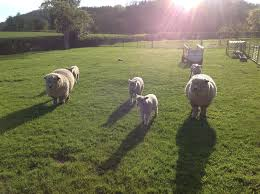sheep: (184, 75, 217, 119), (40, 68, 76, 101), (135, 92, 162, 126), (125, 75, 146, 104), (189, 62, 203, 79), (70, 64, 83, 78)
